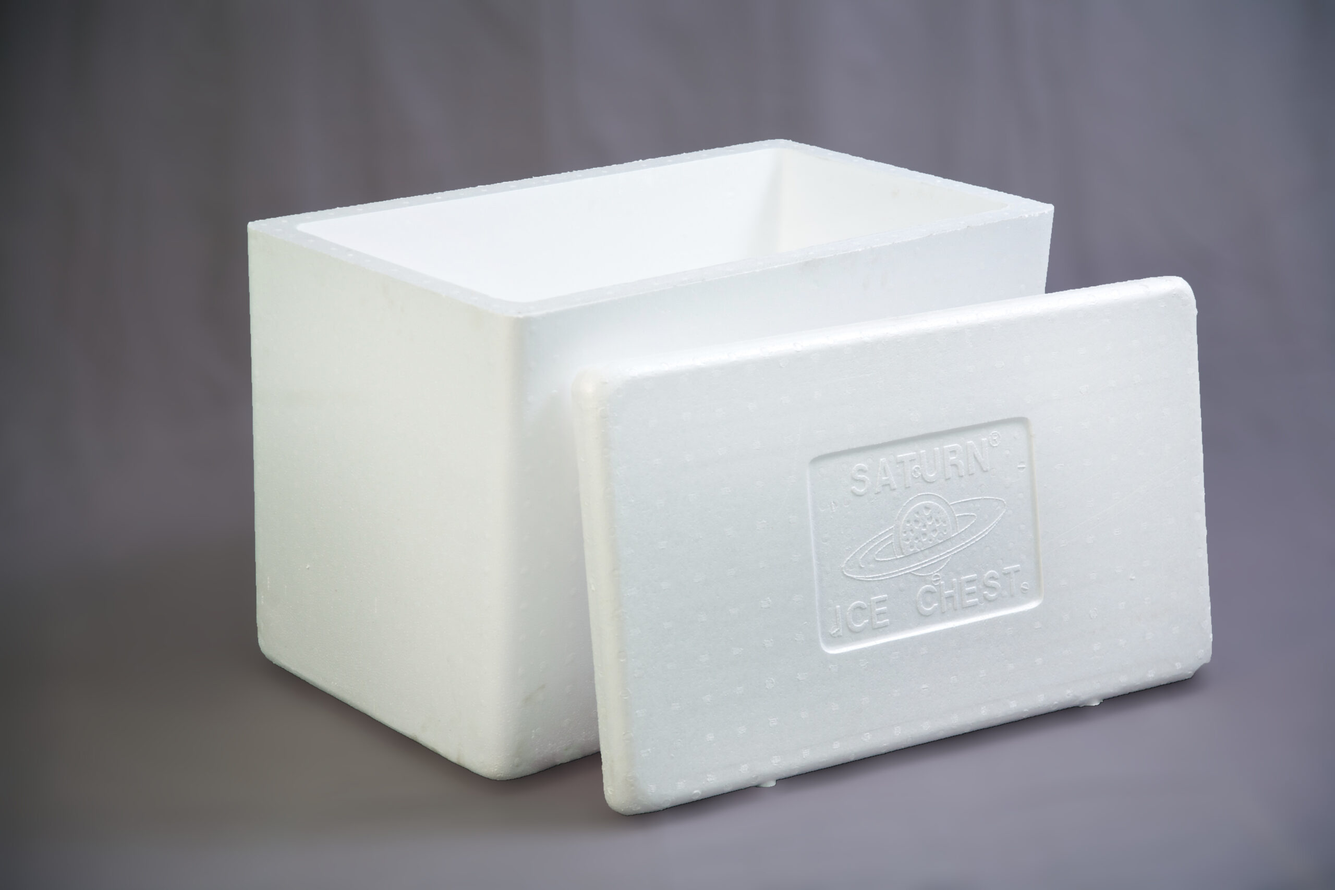泡沫箱: (247, 140, 1055, 778)
